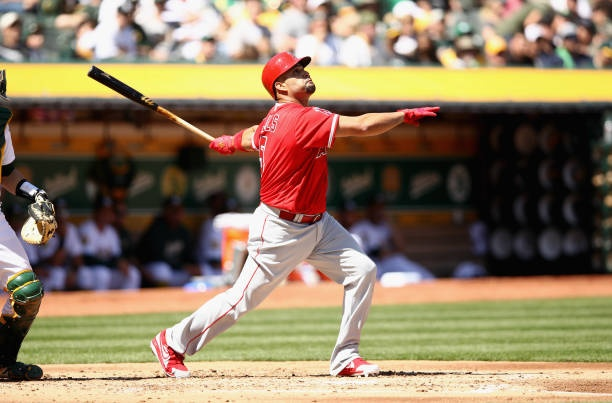bita: (88, 65, 219, 146)
